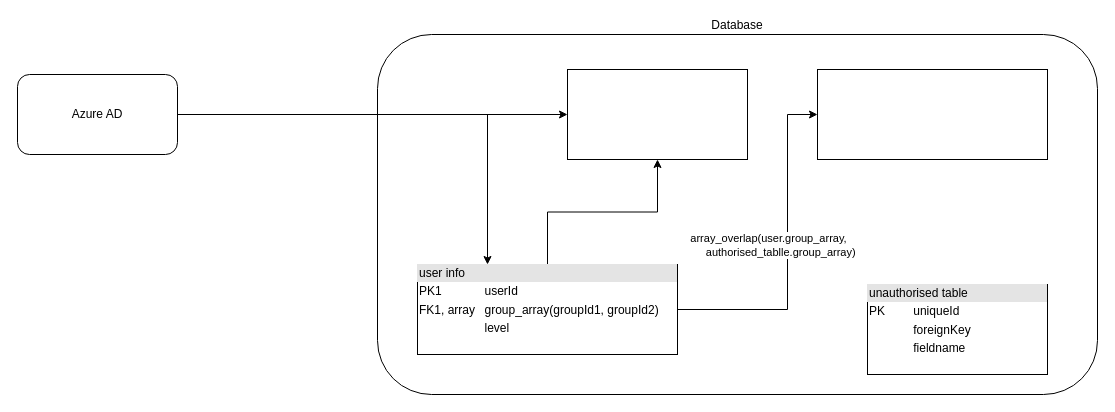
Some shapes in this 1115 by 412 pixel diagram are drawn without their labels. Each missing label, with the centre of its shape:
"authorised table PK uniqueId array group_array(groupId1, groupId2) fieldname" goes at [932,114].
"group info PK groupId groupName level" goes at [657,114].
